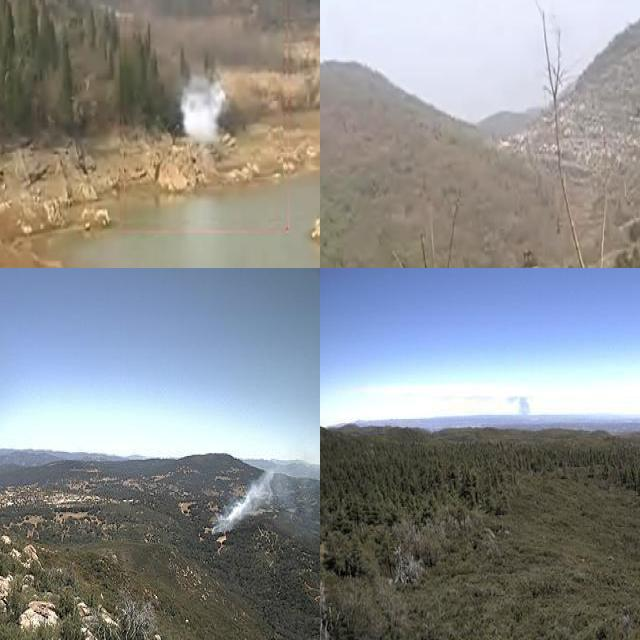smoke: (206, 465, 286, 535), (180, 78, 223, 142), (504, 392, 532, 417)
